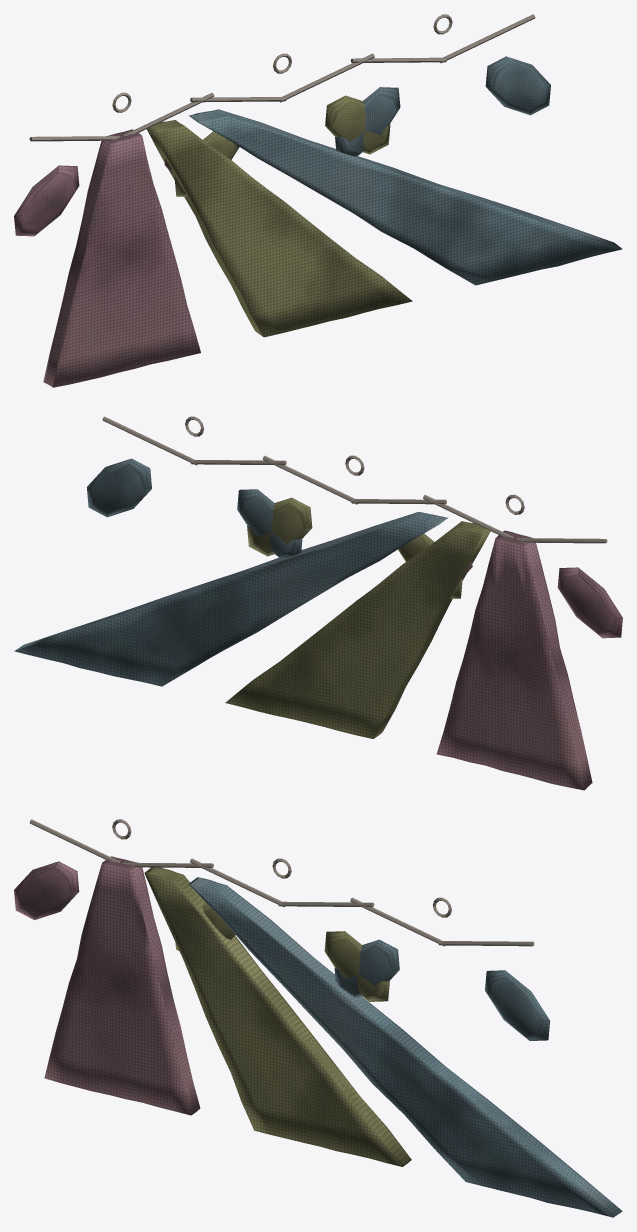
Rendered from CL02_ChildsFrock.glb.
3 renders of one model, top to bottom at view 1: azimuth 30°, elevation 25°; view 2: azimuth 150°, elevation 25°; view 3: azimuth 330°, elevation 25°, orthographic.
Parts seen in each view (by area): view 1: CL02_ChildsFrock; view 2: CL02_ChildsFrock; view 3: CL02_ChildsFrock.
Boxes of the visible parts, x1=… form: CL02_ChildsFrock: x1=14, y1=14, x2=622, y2=387; CL02_ChildsFrock: x1=14, y1=416, x2=622, y2=790; CL02_ChildsFrock: x1=14, y1=819, x2=622, y2=1217.
Size of the model in its own units: 0.6 by 0.2613 by 0.019.
4 materials, 4 textured.
